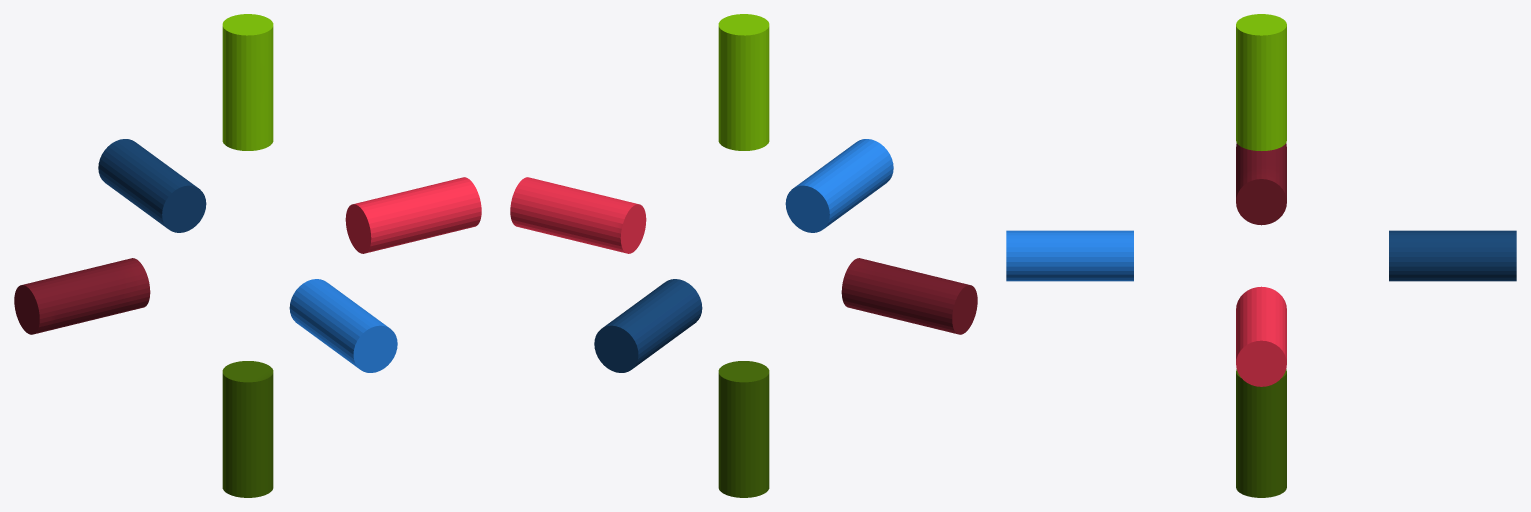
Rendered from reference_frame.obj.
3 renders of one model, left to right at view 1: azimuth 30°, elevation 25°; view 2: azimuth 150°, elevation 25°; view 3: azimuth 270°, elevation 25°, orthographic.
Visible parts, largest first — view 1: reference_frame; view 2: reference_frame; view 3: reference_frame.
Part boxes in pixels (left/top/right/bottom): reference_frame: left=14, top=14, right=481, bottom=497; reference_frame: left=510, top=14, right=977, bottom=497; reference_frame: left=1006, top=14, right=1516, bottom=497.
Bounding box in the file's own units: 2 × 2 × 2.
1 material, 1 textured.
